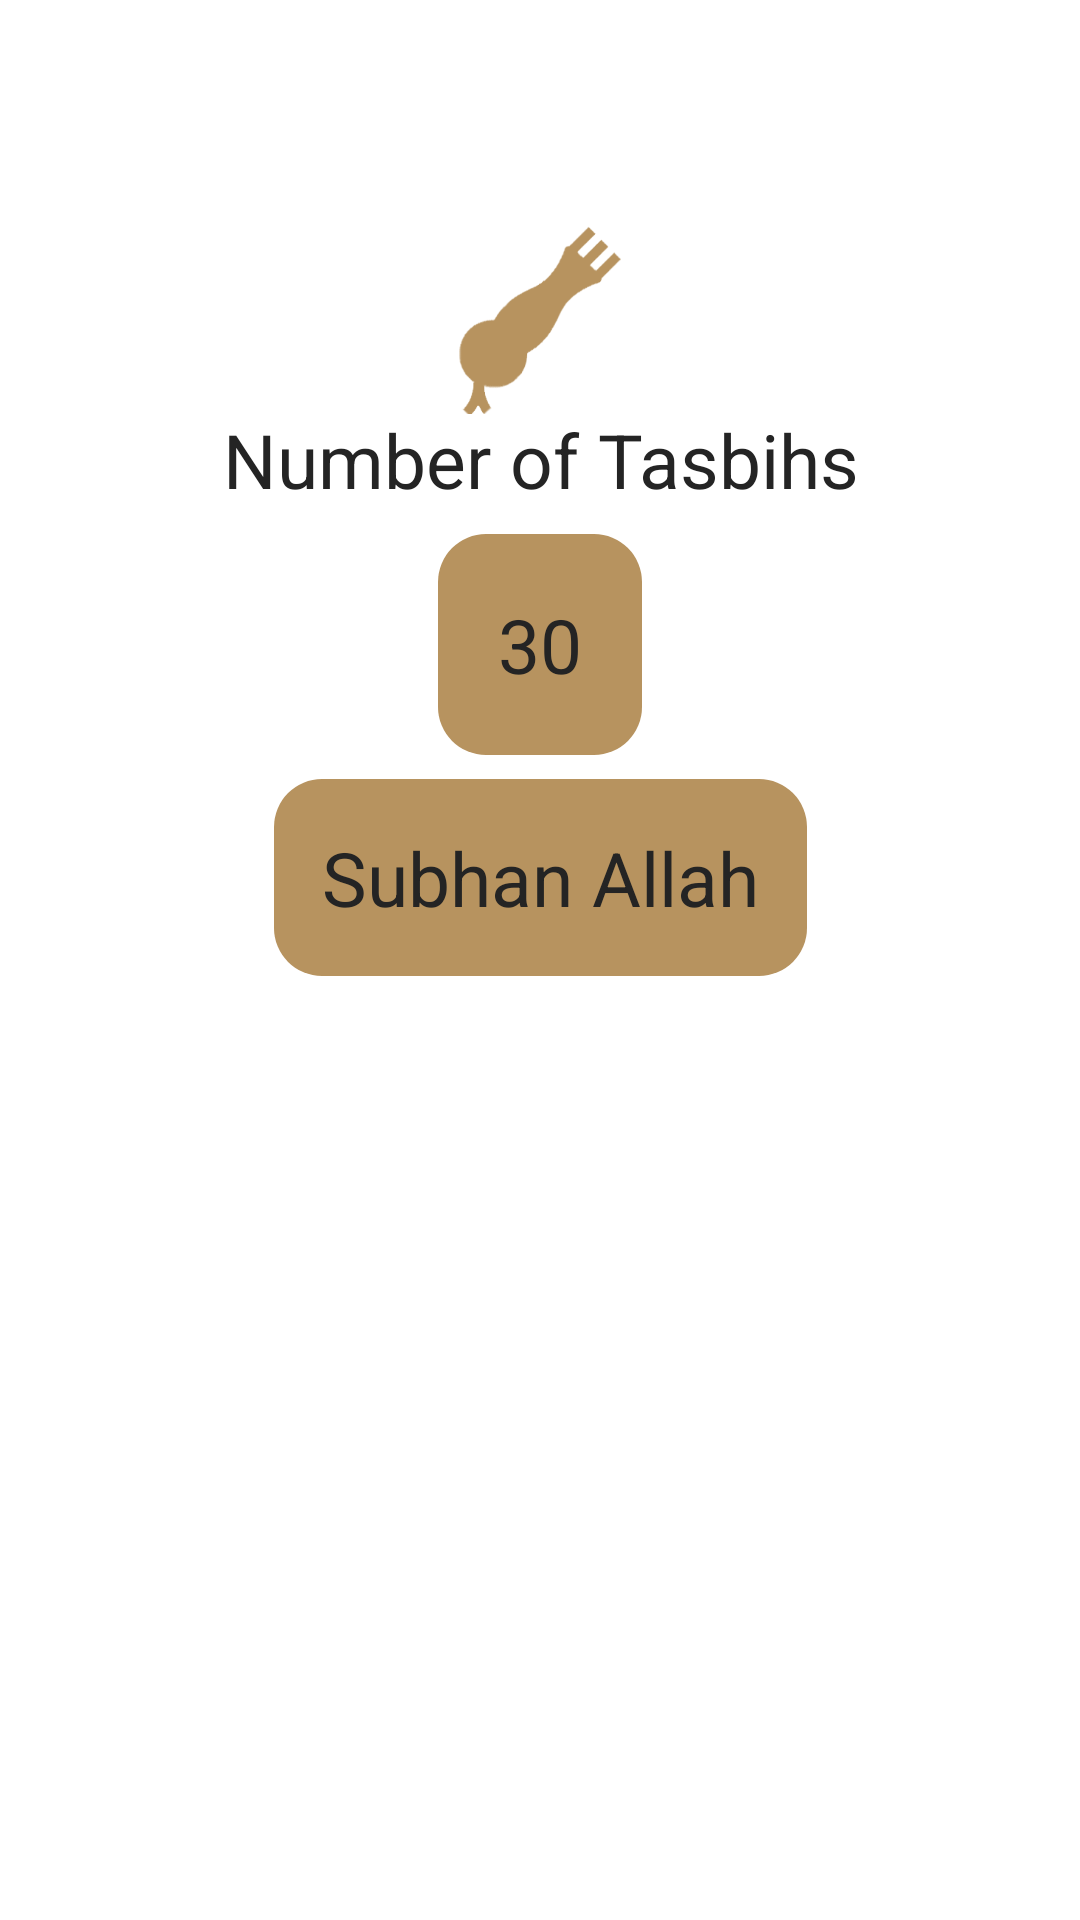

Point at icon controls on the screen. Image size 1080px×1920px, points as (x=x, y=y).
sebha head: (x=540, y=320)
